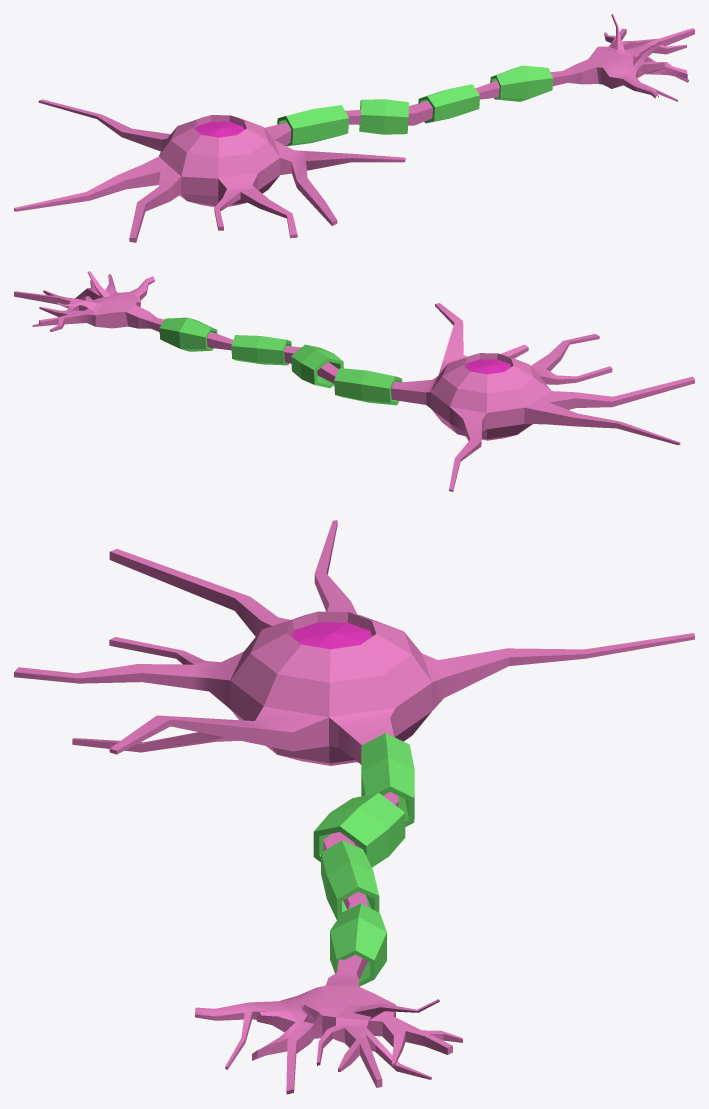
Rendered from new_neuron.obj.
The picture shows the model from 3 angles, top to bottom: view 1: azimuth 30°, elevation 25°; view 2: azimuth 150°, elevation 25°; view 3: azimuth 270°, elevation 25°; orthographic projection. The views are drawn at different scales.
Visible parts, largest first — view 1: Neuron_pCube2, AxonTerminal_Neuron_pCube2, myelinSheaths_pTorus1, pTorus4_myelinSheaths, myelinSheaths_pTorus2, myelinSheaths_pTorus3, Nucleus_pCube2; view 2: Neuron_pCube2, AxonTerminal_Neuron_pCube2, myelinSheaths_pTorus1, myelinSheaths_pTorus3, pTorus4_myelinSheaths, myelinSheaths_pTorus2, Nucleus_pCube2; view 3: Neuron_pCube2, AxonTerminal_Neuron_pCube2, myelinSheaths_pTorus2, myelinSheaths_pTorus1, pTorus4_myelinSheaths, myelinSheaths_pTorus3, Nucleus_pCube2.
Boxes of the visible parts, x1,y1,x2,y2 form: Neuron_pCube2: (14,71,567,242); AxonTerminal_Neuron_pCube2: (563,14,694,101); myelinSheaths_pTorus1: (277,105,349,146); pTorus4_myelinSheaths: (490,65,553,101); myelinSheaths_pTorus2: (359,99,408,134); myelinSheaths_pTorus3: (418,84,479,123); Nucleus_pCube2: (195,121,243,137); Neuron_pCube2: (151,303,694,491); AxonTerminal_Neuron_pCube2: (14,271,160,331); myelinSheaths_pTorus1: (334,368,402,405); myelinSheaths_pTorus3: (231,335,291,365); pTorus4_myelinSheaths: (159,317,217,351); myelinSheaths_pTorus2: (291,344,343,388); Nucleus_pCube2: (465,359,510,374); Neuron_pCube2: (14,520,694,973); AxonTerminal_Neuron_pCube2: (195,958,462,1094); myelinSheaths_pTorus2: (313,793,405,867); myelinSheaths_pTorus1: (361,733,414,826); pTorus4_myelinSheaths: (330,903,386,986); myelinSheaths_pTorus3: (321,840,379,919); Nucleus_pCube2: (291,622,371,649).
Size of the model in its own units: 9.27 by 0.8987 by 4.75.
